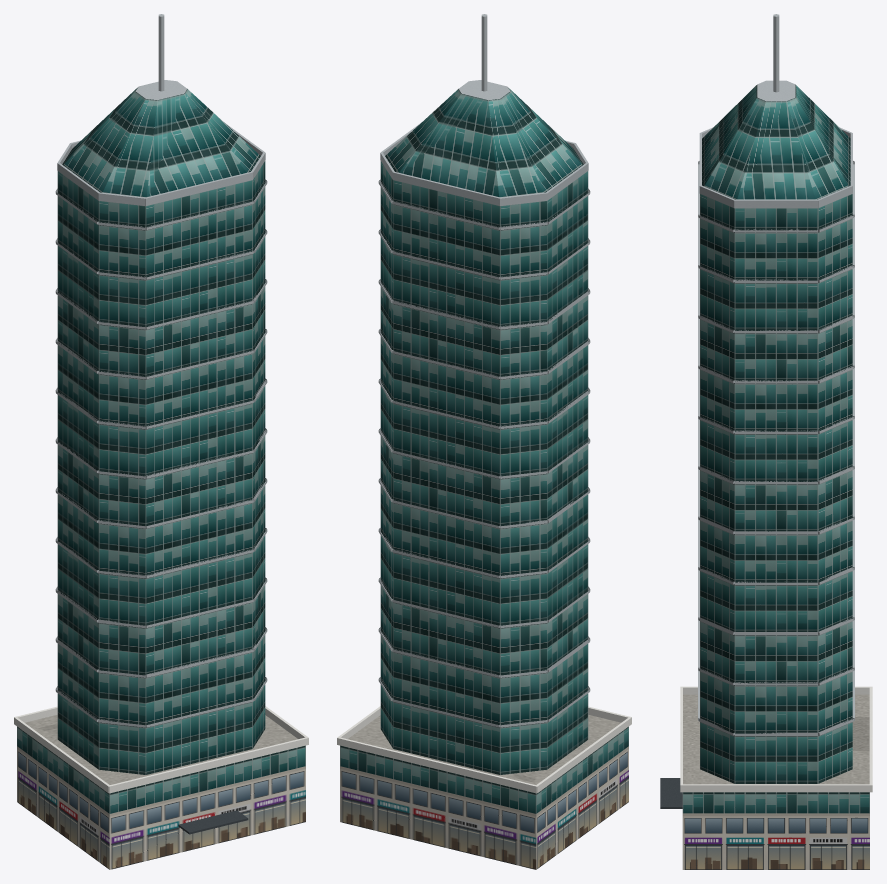
File: OW_CaoOc_VP_VatGoc_104.fbx
The picture shows the model from 3 angles, left to right: view 1: azimuth 30°, elevation 25°; view 2: azimuth 150°, elevation 25°; view 3: azimuth 270°, elevation 25°; orthographic projection.
Parts seen in each view (by area): view 1: OW_CaoOc_VP_VatGoc_104_LOD0; view 2: OW_CaoOc_VP_VatGoc_104_LOD0; view 3: OW_CaoOc_VP_VatGoc_104_LOD0.
Part boxes in pixels (box(x1,y1,x2,y2)): OW_CaoOc_VP_VatGoc_104_LOD0: box(14, 14, 308, 869); OW_CaoOc_VP_VatGoc_104_LOD0: box(337, 14, 631, 869); OW_CaoOc_VP_VatGoc_104_LOD0: box(660, 14, 872, 869).
Size of what is drawn, in the model's own units: 33.7 by 128 by 30.55.
